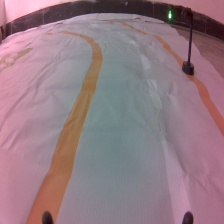green: (165, 3, 196, 78)
